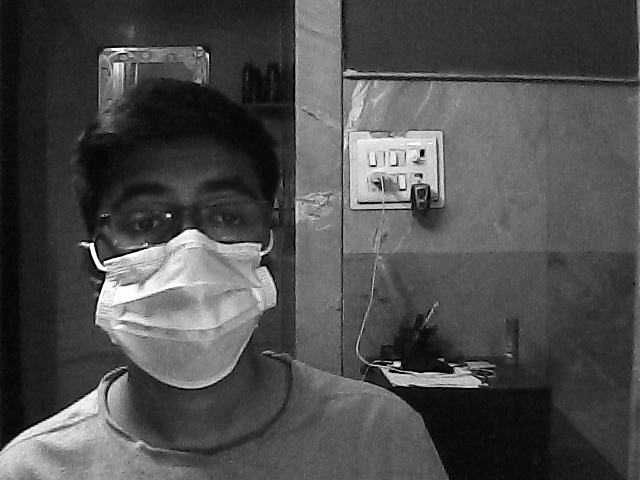mask: (88, 170, 277, 390)
